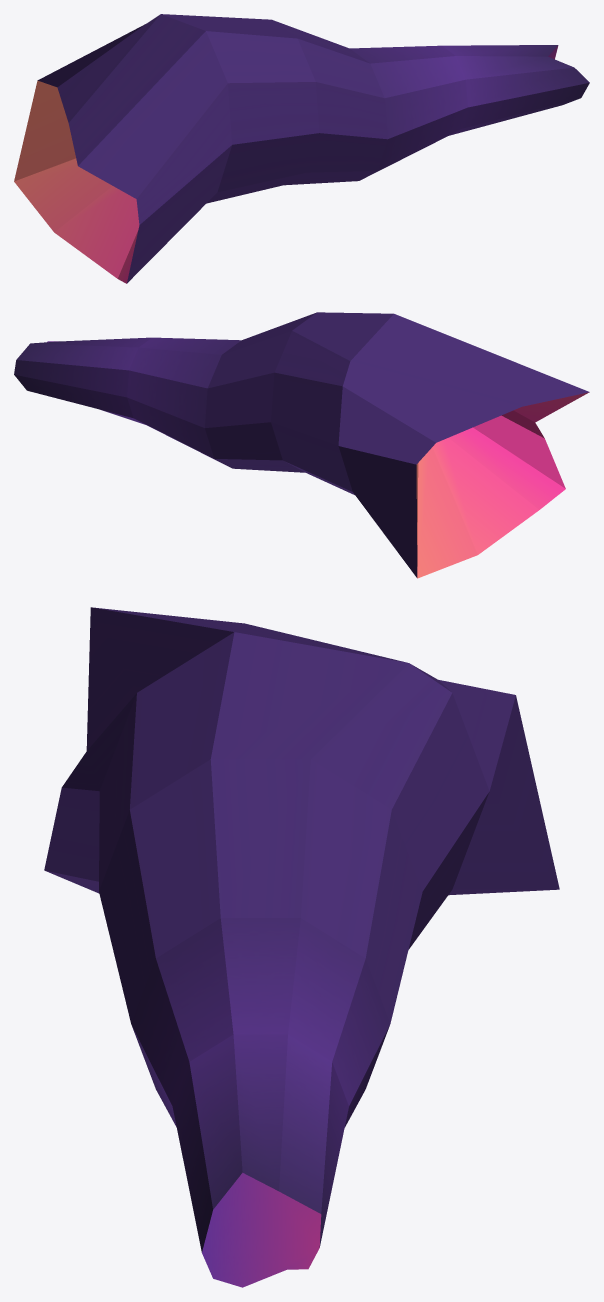
Rendered from SM_Log.fbx.
3 renders of one model, top to bottom at view 1: azimuth 30°, elevation 25°; view 2: azimuth 150°, elevation 25°; view 3: azimuth 270°, elevation 25°, orthographic. The views are drawn at different scales.
Parts seen in each view (by area): view 1: Master_TreeLog; view 2: Master_TreeLog; view 3: Master_TreeLog.
Part boxes in pixels (box(x1,y1,x2,y2)): Master_TreeLog: box(14, 14, 589, 283); Master_TreeLog: box(14, 312, 589, 578); Master_TreeLog: box(44, 607, 559, 1287).
Bounding box in the file's own units: 132 × 310 × 107.
